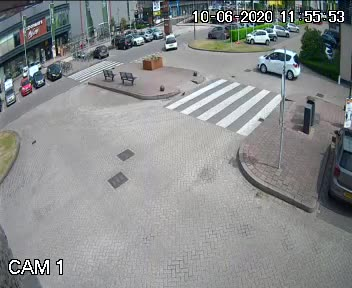car: (254, 44, 300, 82), (159, 31, 180, 52)
